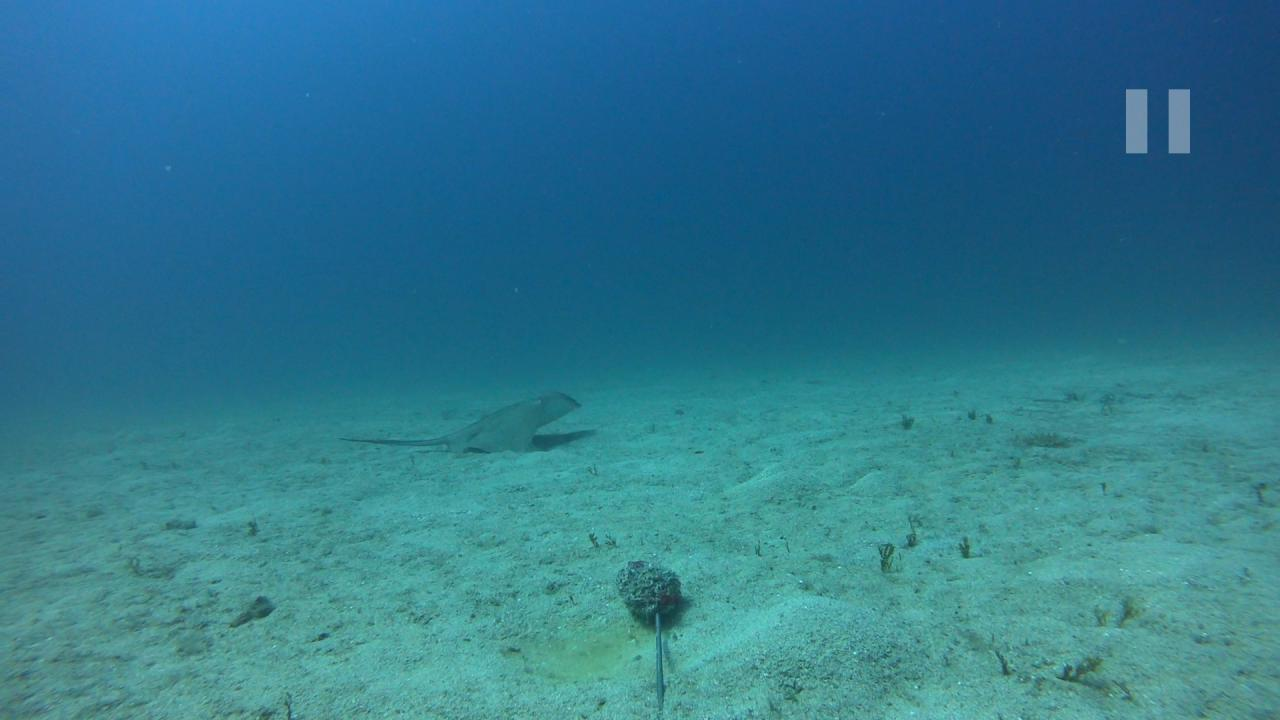dasyatis: (338, 391, 581, 453)
